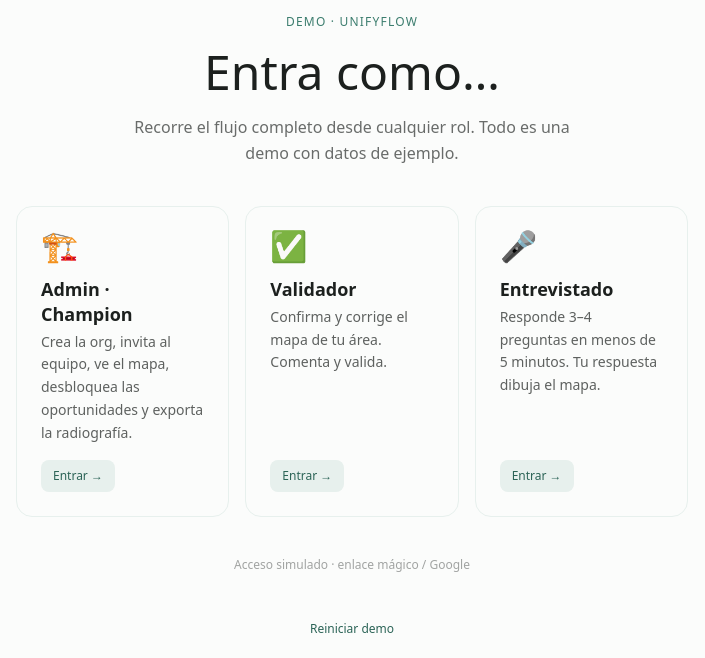
Test: DemoPage › shows 'Demo reiniciada' confirmation after clicking Reiniciar demo
Click the button "Reiniciar demo" at (352, 629), box [298,613,406,645]
(page scrolled)
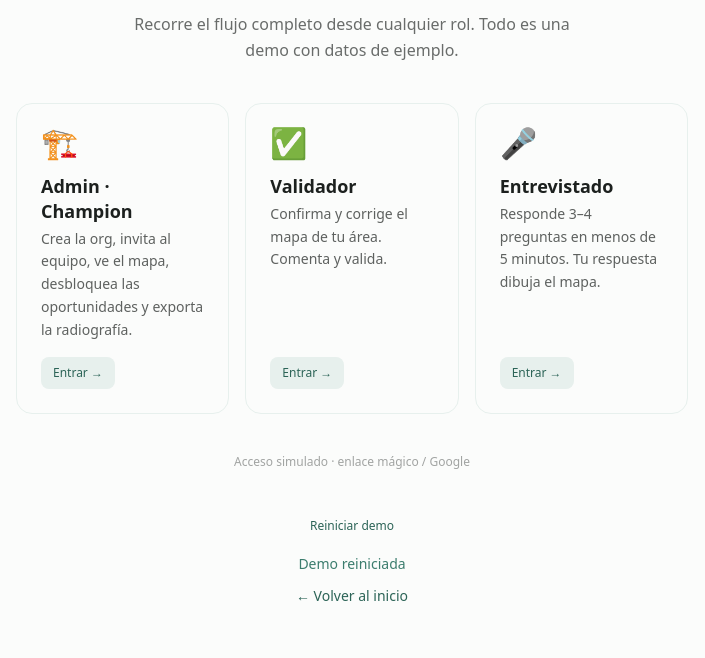
Expected: the text "Demo reiniciada" is shown, [298,554,406,574]
